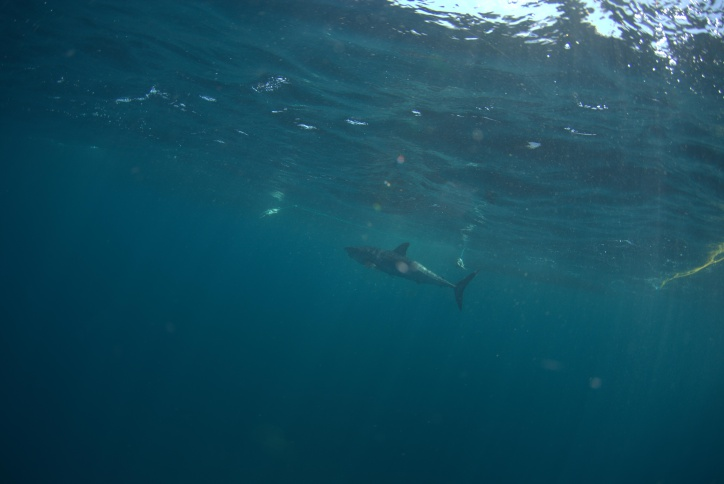Mako: (335, 234, 494, 319)
